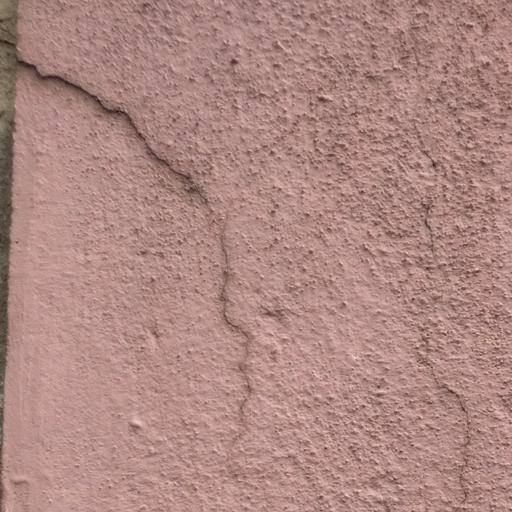minor_crack: (0, 26, 267, 511), (399, 128, 489, 512)
